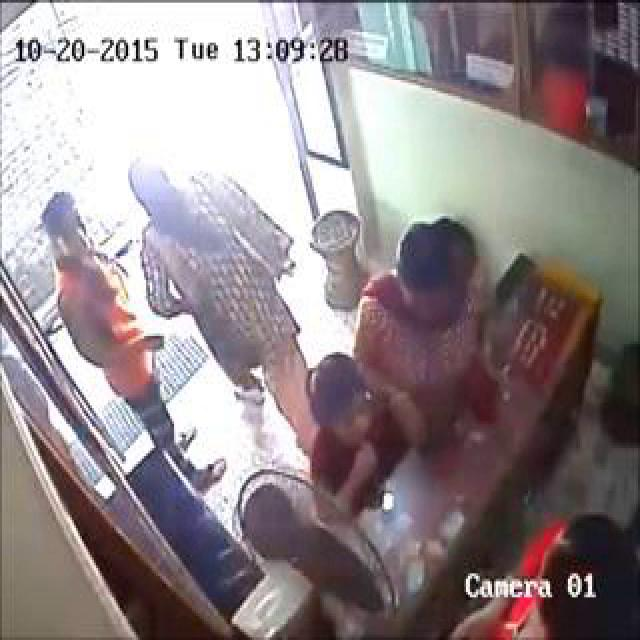shoplifting: (132, 62, 491, 609)
